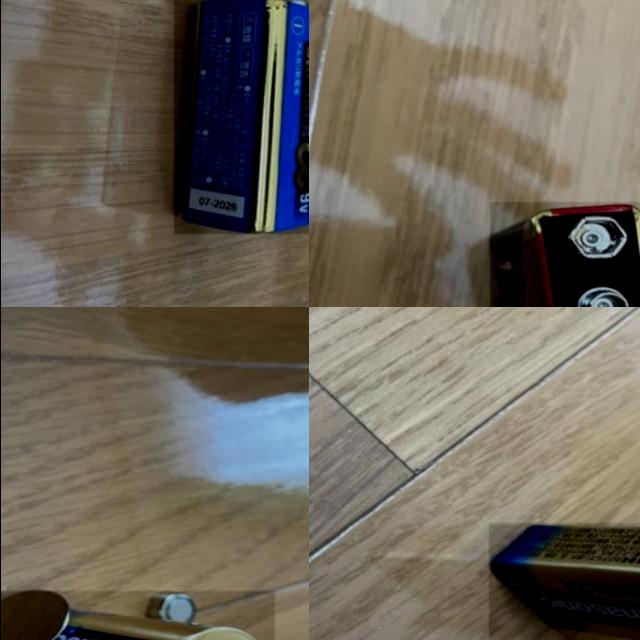9V: (173, 0, 308, 234), (488, 523, 640, 640), (489, 202, 640, 307)
